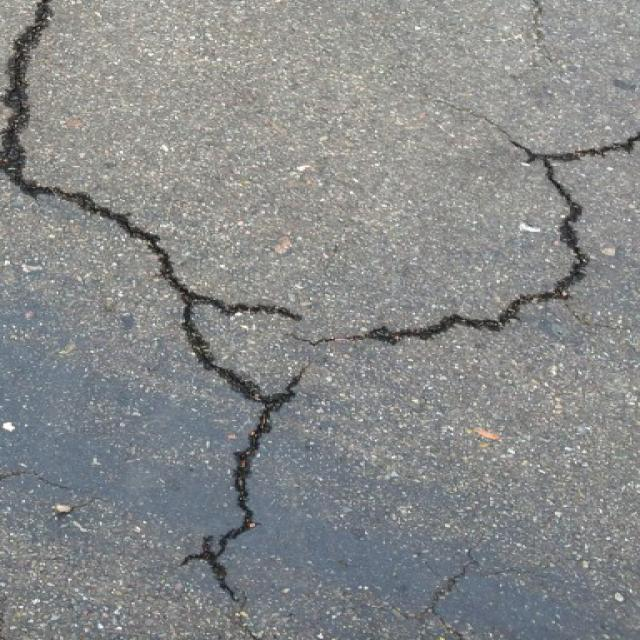Diagonal: (57, 184, 143, 245), (427, 547, 481, 640)
Longitudinal: (0, 0, 54, 197), (544, 215, 590, 308)
Network: (146, 228, 313, 640)
Radial: (460, 73, 640, 214)
Transverse: (364, 288, 542, 352)
